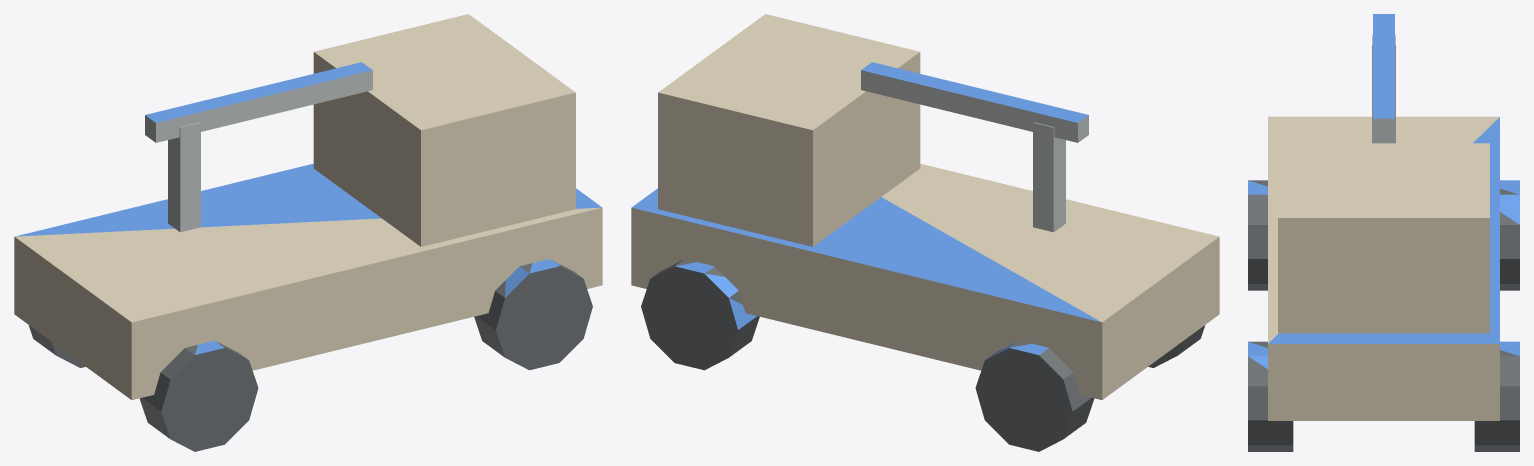
File: meridian_repair_truck.glb
3 views of the same model, side by side, from view 1: azimuth 30°, elevation 25°; view 2: azimuth 150°, elevation 25°; view 3: azimuth 270°, elevation 25° (orthographic).
Visible parts, largest first — view 1: hull, crane; view 2: hull, crane; view 3: hull, crane.
Part boxes in pixels (x1,y1,x2,y2): hull: [14, 14, 602, 451]; crane: [145, 62, 372, 232]; hull: [631, 14, 1219, 451]; crane: [861, 62, 1088, 232]; hull: [1248, 116, 1519, 451]; crane: [1372, 14, 1395, 143].
Size of the model in its own units: 4.94 by 2.78 by 2.5.
